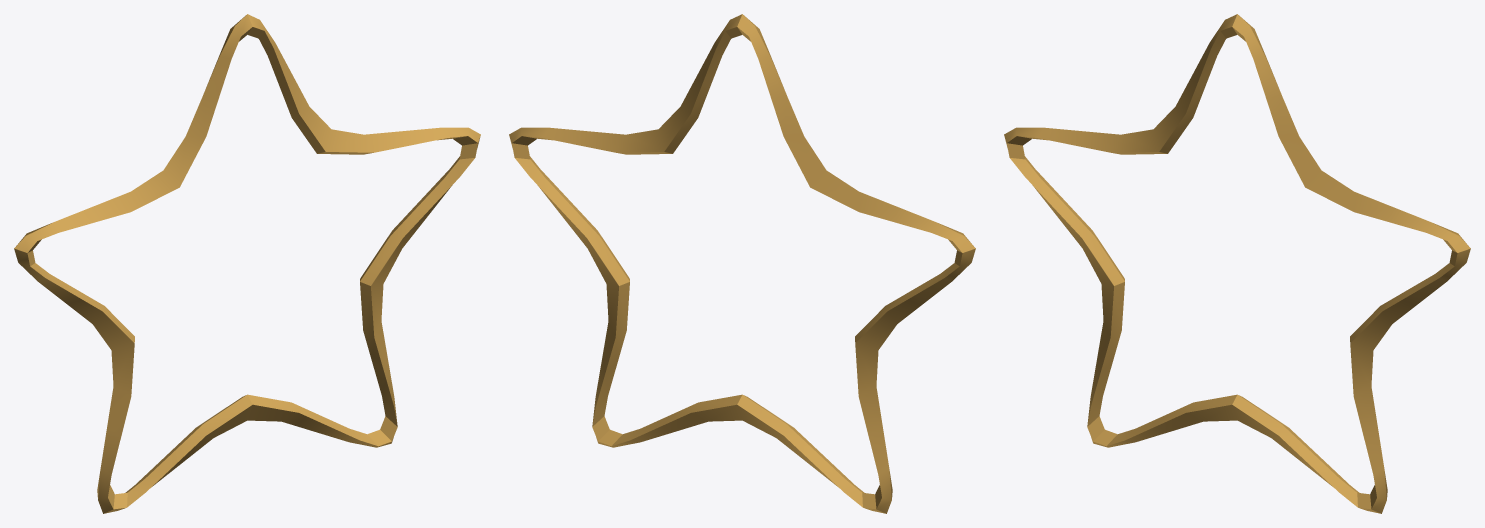
Rendered from star_outline.glb.
3 views of the same model, side by side, from view 1: azimuth 30°, elevation 25°; view 2: azimuth 150°, elevation 25°; view 3: azimuth 330°, elevation 25° (orthographic).
Visible parts, largest first — view 1: Star_Outline; view 2: Star_Outline; view 3: Star_Outline.
Part boxes in pixels (x1,y1,x2,y2): Star_Outline: (14, 14, 480, 513); Star_Outline: (509, 14, 975, 513); Star_Outline: (1004, 14, 1470, 513).
Bounding box in the file's own units: 1.51 × 1.44 × 0.0594.
